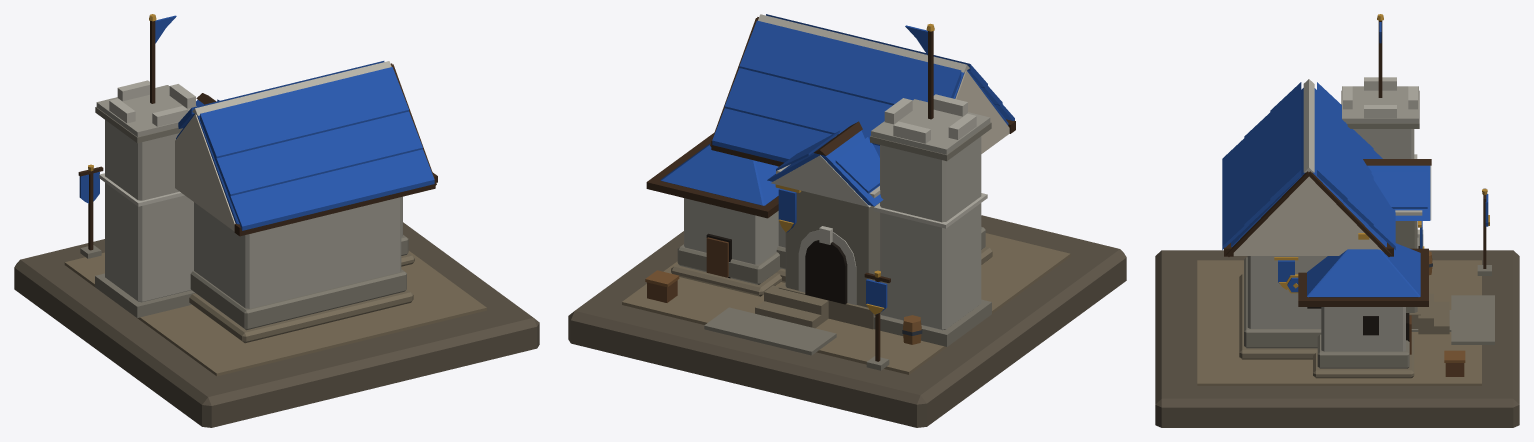
Rendered from 城镇大厅_2星.glb.
3 renders of one model, left to right at view 1: azimuth 30°, elevation 25°; view 2: azimuth 150°, elevation 25°; view 3: azimuth 270°, elevation 25°, orthographic. The views are drawn at different scales.
Visible parts, largest first — view 1: 城镇大厅_2星; view 2: 城镇大厅_2星; view 3: 城镇大厅_2星.
Boxes of the visible parts, x1,y1,x2,y2 form: 城镇大厅_2星: (14, 14, 539, 427); 城镇大厅_2星: (568, 14, 1126, 427); 城镇大厅_2星: (1155, 14, 1519, 427).
Size of the model in its own units: 1 by 0.876 by 1.
